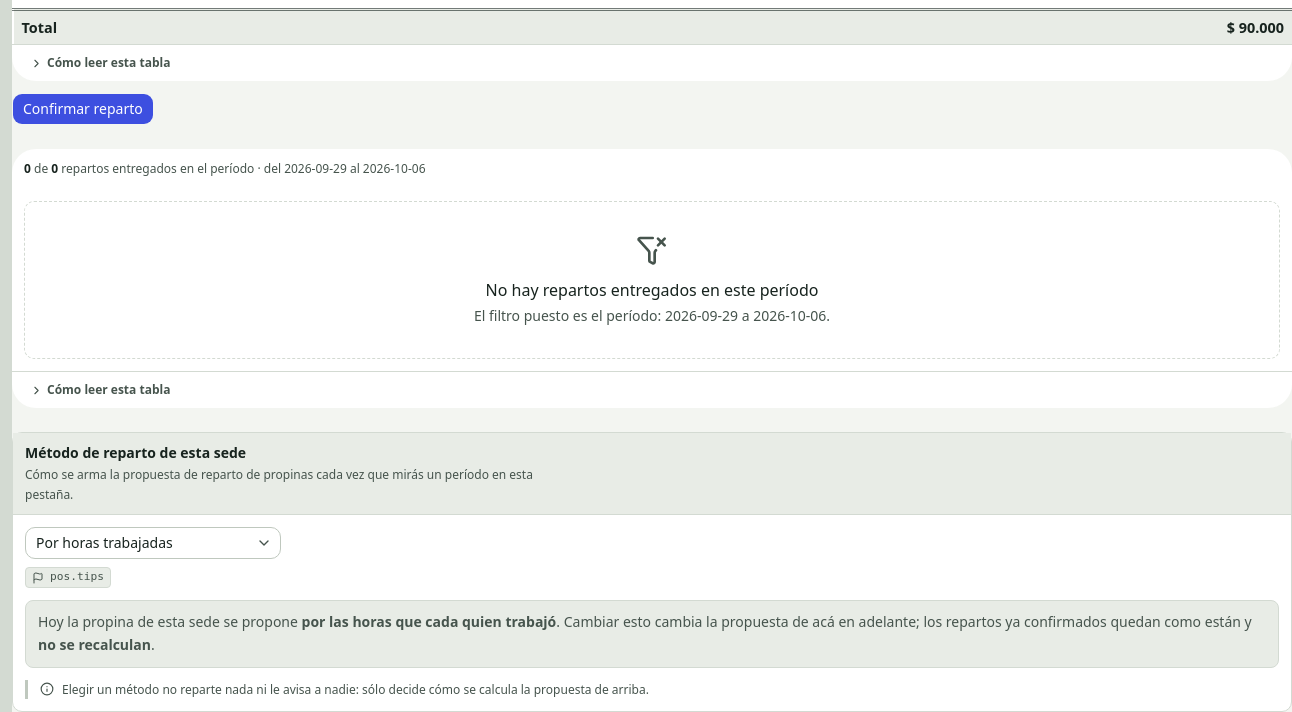
Test: TipsTab — D-3: la propuesta NUNCA mueve plata sola › el selector de método de reparto (portal) se abre y ofrece los tres métodos de D-3
(page scrolled)
Click the dropdown named "Método de reparto de propinas": (153, 543) [25,527,281,559]
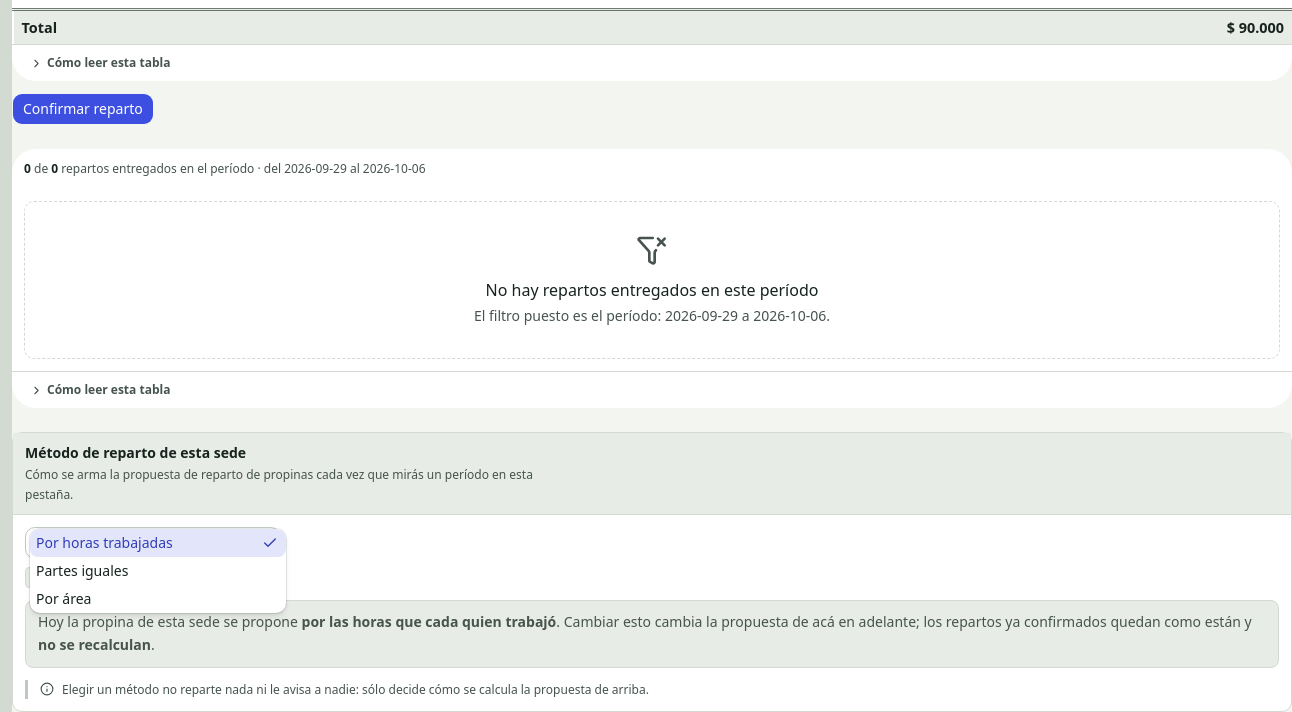
Check: the option "Por horas trabajadas" is shown, box [30,529,286,557]
